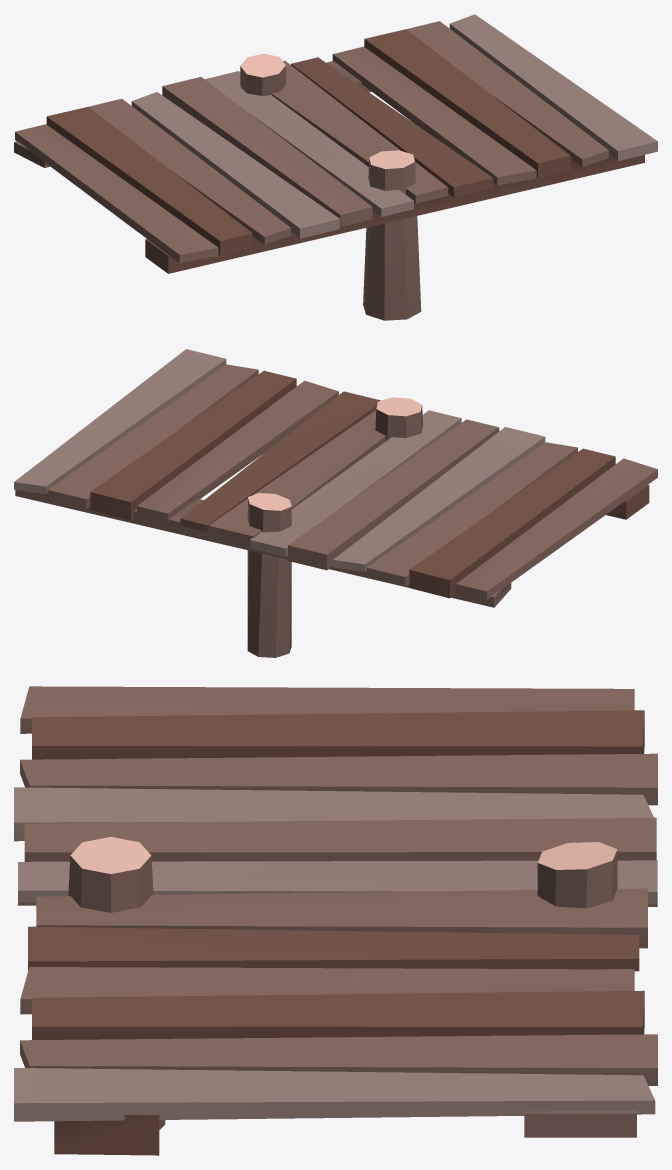
File: village_pier_001.glb
3 renders of one model, top to bottom at view 1: azimuth 30°, elevation 25°; view 2: azimuth 150°, elevation 25°; view 3: azimuth 270°, elevation 25°, orthographic. The views are drawn at different scales.
Parts seen in each view (by area): view 1: Building_006; view 2: Building_006; view 3: Building_006.
Boxes of the visible parts, x1,y1,x2,y2 form: Building_006: (14, 14, 657, 320); Building_006: (14, 349, 657, 657); Building_006: (14, 686, 657, 1155).
Size of the model in its own units: 5.38 by 1.63 by 3.49.
1 material, 1 textured.
